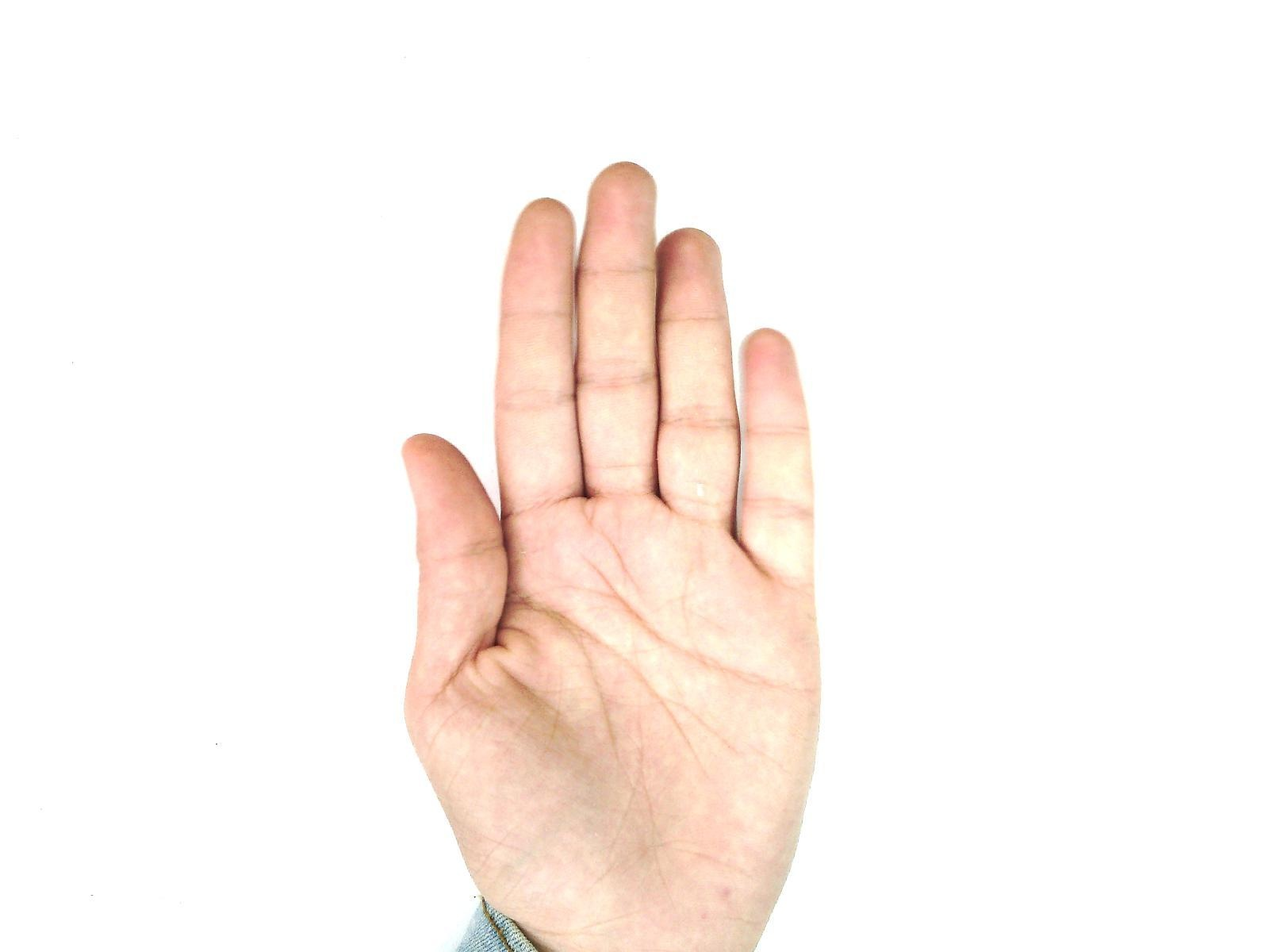open_palm: (398, 160, 826, 951)
